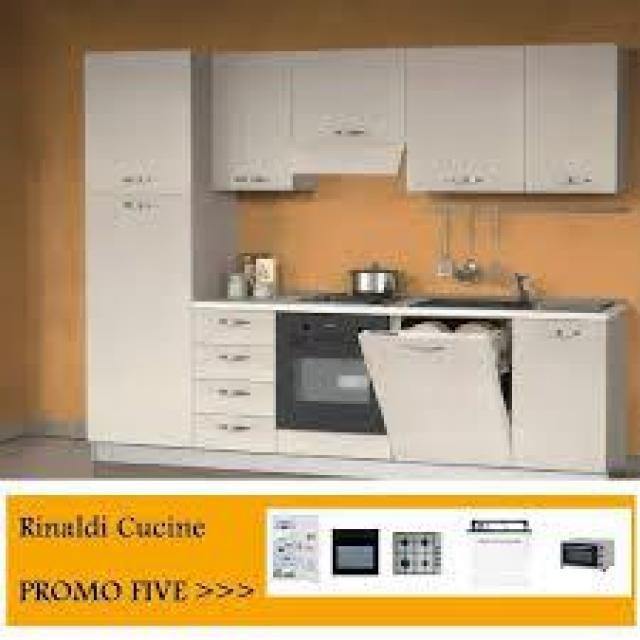dishwasher: (356, 310, 518, 469)
